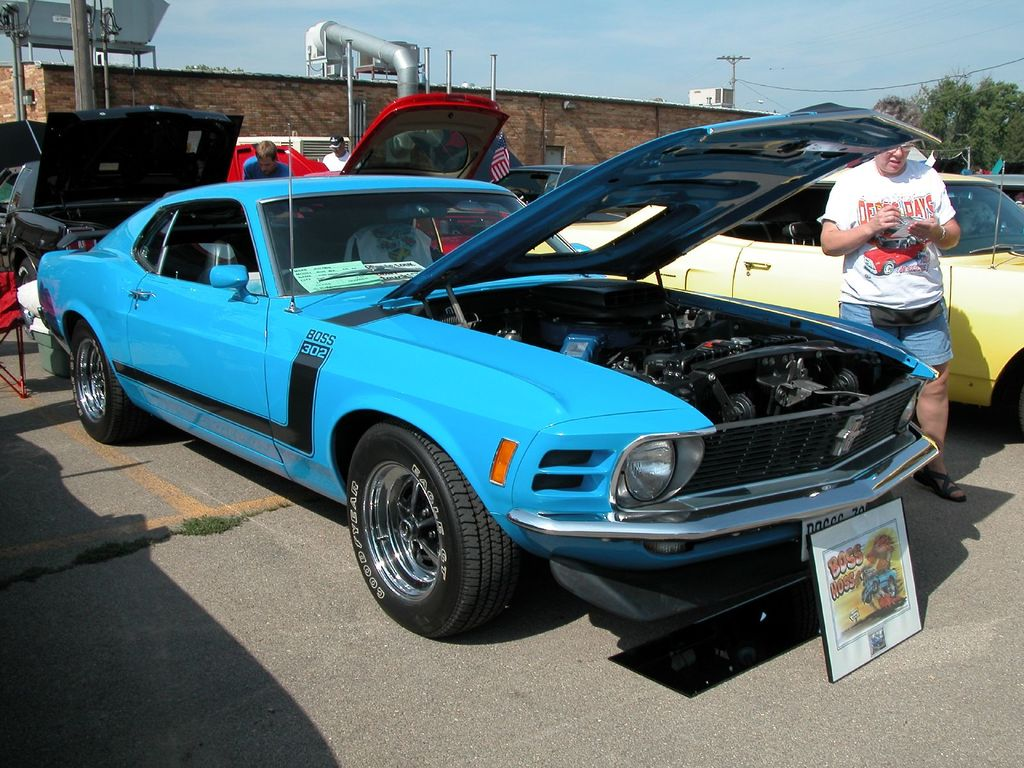Car: (0, 92, 1023, 639)
